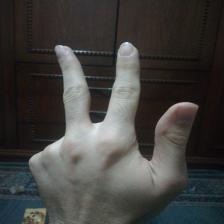three: (23, 35, 209, 219)
